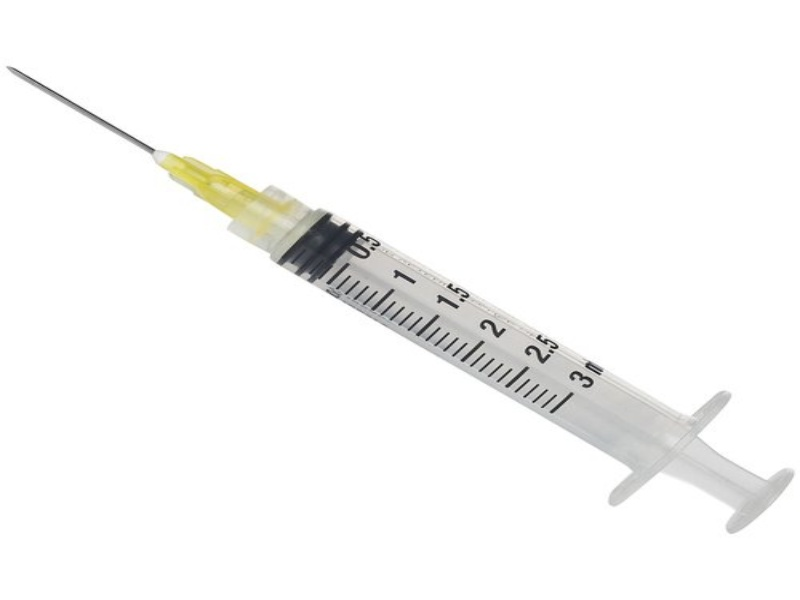Syringe_NonBioD: (3, 9, 794, 598)
